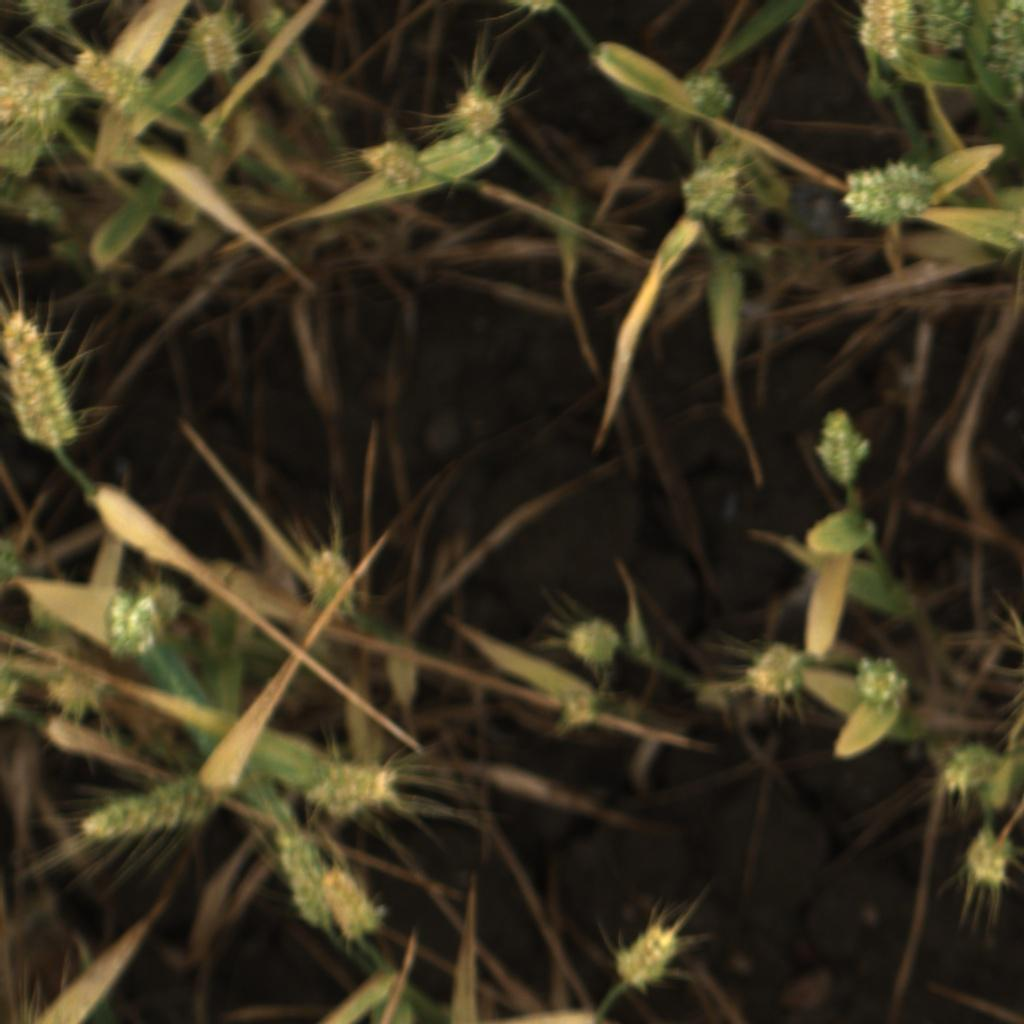0-0: (0, 308, 80, 446), (77, 783, 204, 852), (269, 828, 337, 933), (834, 158, 934, 226), (67, 45, 159, 118), (0, 57, 78, 141), (318, 866, 391, 949), (613, 916, 686, 996), (810, 400, 876, 484), (305, 760, 398, 818), (845, 650, 915, 712), (186, 10, 249, 78), (355, 134, 426, 194), (940, 735, 1007, 798), (853, 0, 920, 63), (742, 637, 802, 706), (559, 614, 627, 674), (443, 84, 512, 143), (101, 593, 160, 661), (959, 824, 1019, 890), (43, 662, 108, 720), (677, 165, 743, 220), (305, 546, 358, 614), (912, 0, 976, 55), (990, 1, 1024, 97), (681, 68, 737, 122), (14, 1, 73, 37), (0, 533, 25, 588), (0, 667, 20, 726), (504, 0, 560, 16)
